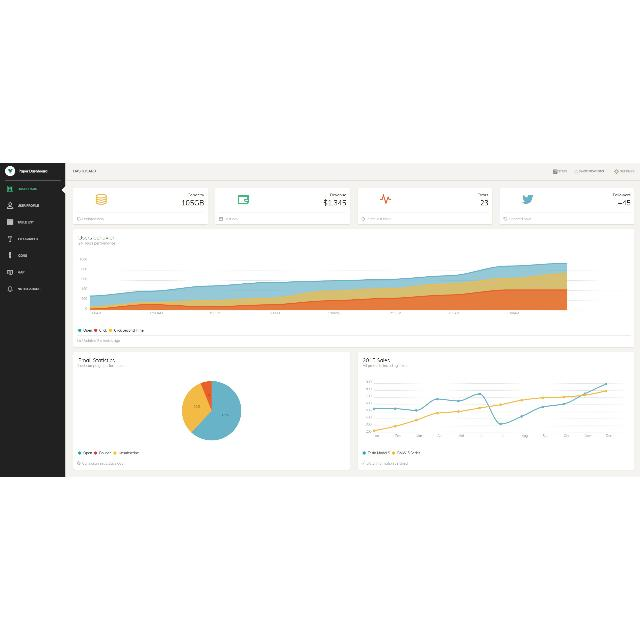Doughnut: (76, 356, 244, 456)
Line: (361, 356, 629, 456)
QLabel: (324, 199, 346, 207), (82, 462, 124, 466), (367, 462, 408, 466), (82, 339, 120, 343), (182, 200, 204, 206), (366, 217, 390, 221), (508, 217, 532, 221), (82, 217, 104, 221), (618, 200, 630, 207), (613, 193, 631, 197), (330, 193, 346, 197), (578, 170, 604, 172), (72, 170, 96, 172), (480, 200, 488, 206), (478, 193, 488, 197), (188, 194, 204, 196), (224, 218, 238, 220), (620, 170, 634, 172), (558, 170, 566, 172)
QMenu: (0, 163, 66, 477)
VAppBar: (66, 163, 640, 180)
VCard: (72, 228, 636, 348), (72, 351, 352, 471), (357, 351, 635, 471), (72, 187, 208, 225), (214, 187, 350, 225), (357, 187, 493, 225), (500, 187, 636, 225)
VDivider: (76, 212, 204, 212), (218, 212, 346, 212), (362, 212, 488, 212), (503, 212, 631, 212), (76, 458, 346, 458), (361, 458, 631, 458), (77, 336, 631, 336)
VIcon: (553, 169, 557, 173), (574, 170, 578, 174), (614, 169, 618, 173), (503, 217, 507, 221), (219, 217, 223, 221), (77, 217, 81, 221), (77, 338, 81, 342), (78, 461, 80, 465), (606, 170, 608, 172), (362, 218, 364, 220), (362, 462, 364, 464)
VImg: (378, 194, 392, 206), (94, 193, 108, 205), (237, 195, 250, 205), (522, 194, 534, 204)
VSparkline: (76, 234, 630, 334)
